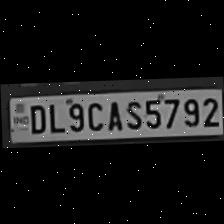2: (198, 94, 220, 127)
5: (141, 94, 161, 128)
7: (160, 96, 178, 128)
9: (178, 95, 200, 128), (63, 99, 83, 132)
A: (102, 97, 122, 131)
C: (82, 98, 104, 131)
D: (24, 101, 46, 134)
L: (44, 99, 62, 133)
S: (120, 97, 142, 130)
